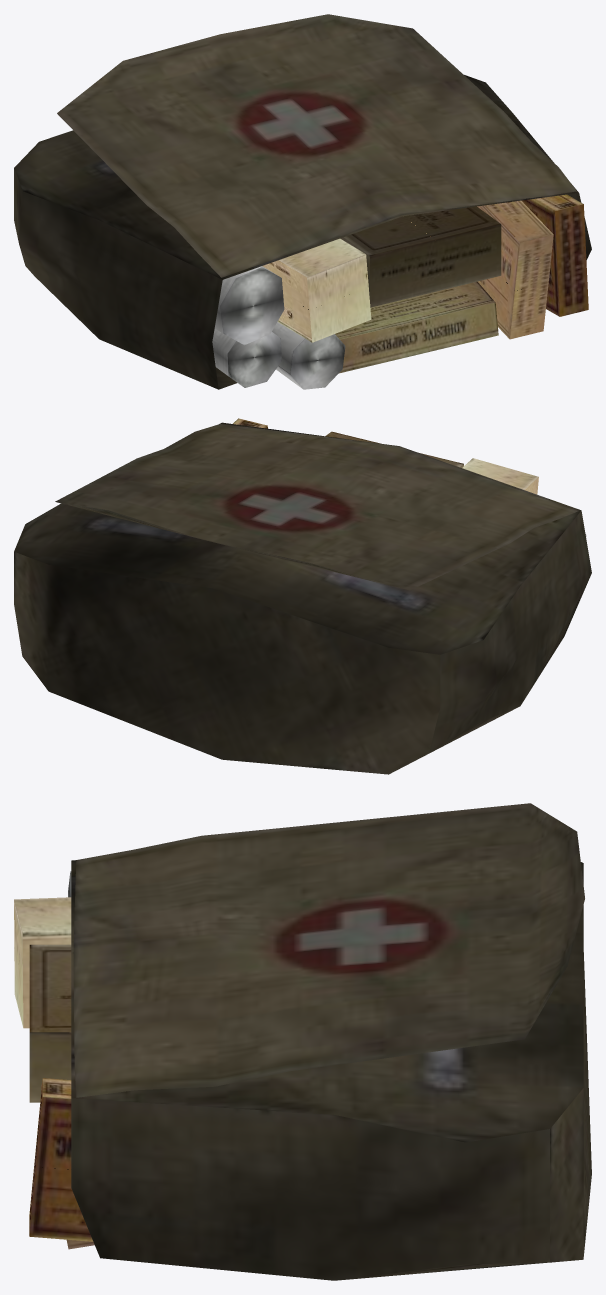
The model's file is health_large.glb.
The picture shows the model from 3 angles, top to bottom: view 1: azimuth 30°, elevation 25°; view 2: azimuth 150°, elevation 25°; view 3: azimuth 270°, elevation 25°; orthographic projection. The views are drawn at different scales.
Bounding box in the file's own units: 19.77 × 8.68 × 15.65.
1 material, 1 textured.
